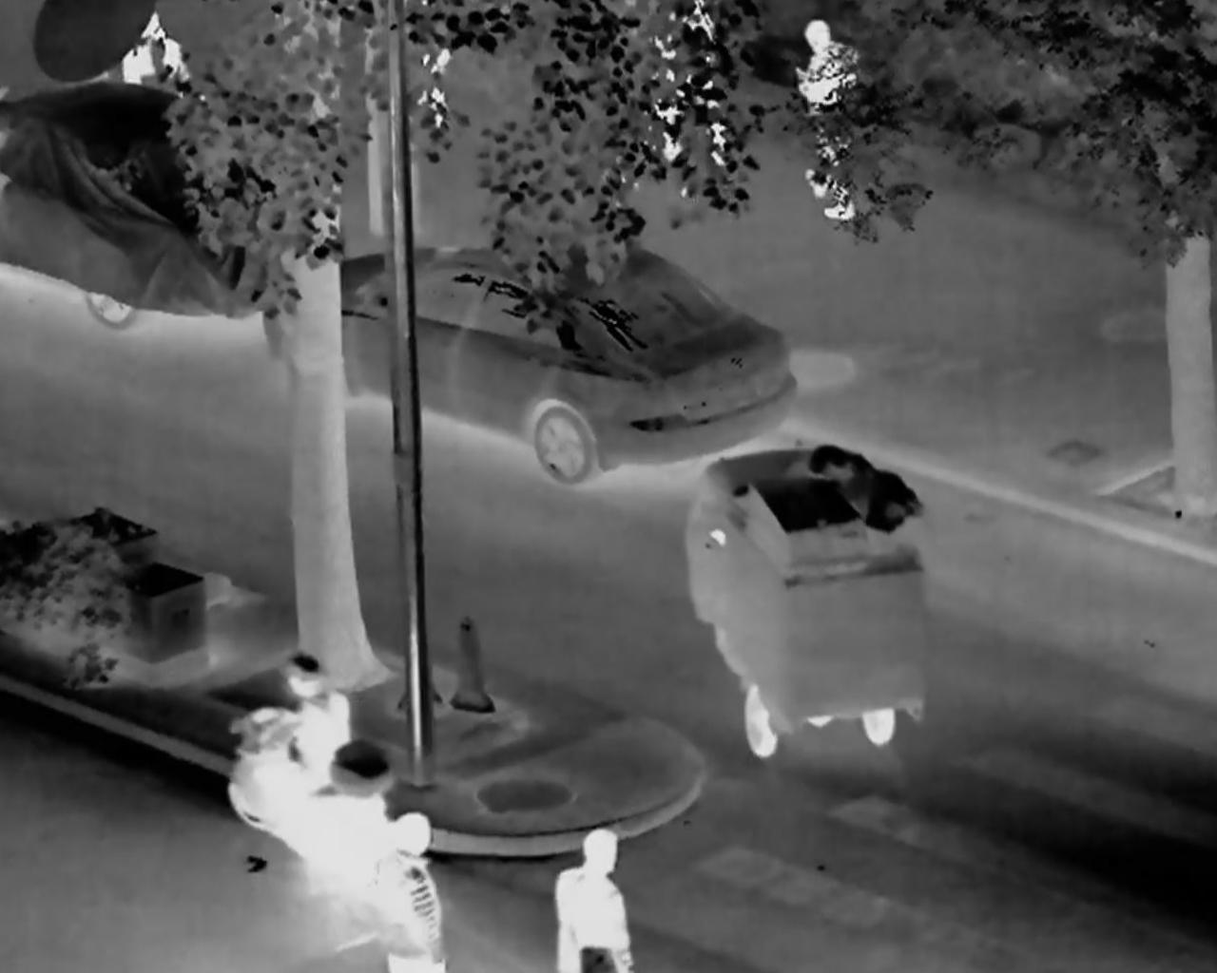person: (259, 658, 357, 835), (551, 829, 633, 973), (796, 18, 854, 221), (372, 813, 446, 971)
